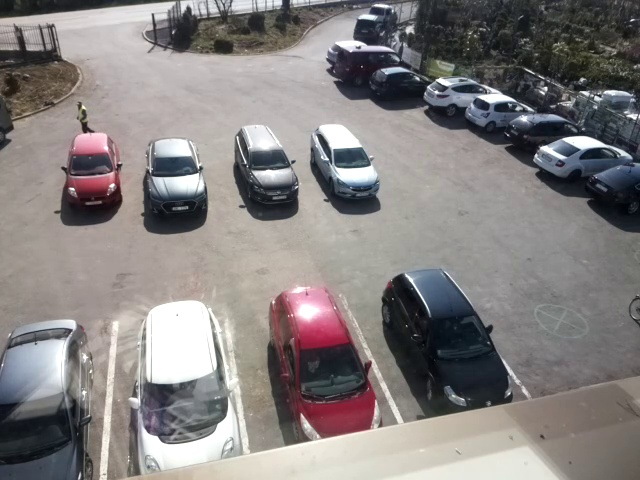car: (382, 268, 514, 412), (134, 301, 242, 474), (269, 287, 383, 444), (1, 320, 92, 480), (235, 123, 300, 207), (311, 123, 381, 200), (145, 136, 209, 218), (533, 133, 634, 182), (66, 129, 122, 209), (425, 76, 509, 118), (333, 45, 415, 86), (505, 113, 592, 150), (589, 161, 640, 214), (466, 96, 542, 131), (368, 65, 435, 100), (327, 40, 383, 67), (352, 13, 389, 44), (359, 2, 397, 25)
